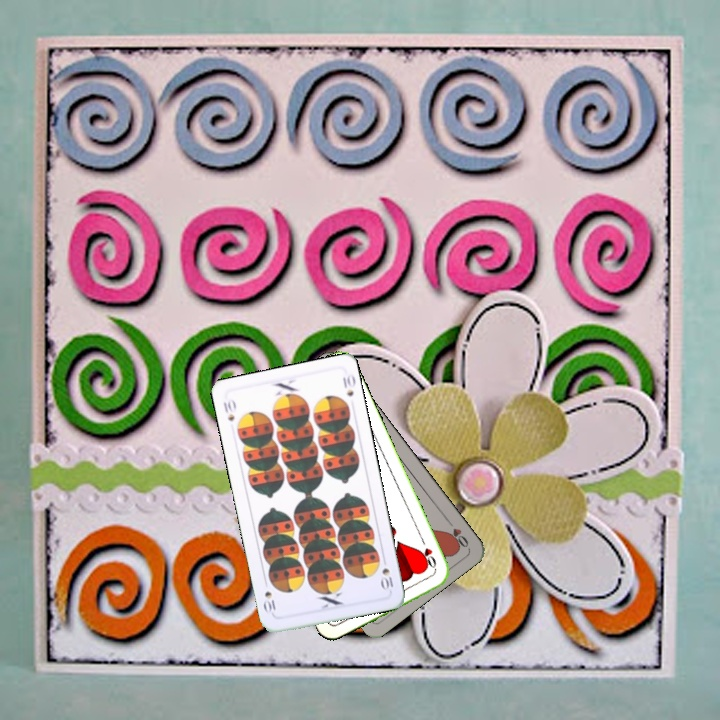HO: (442, 515, 471, 550), (416, 536, 439, 575)
S10: (377, 553, 396, 593), (219, 395, 238, 424)
